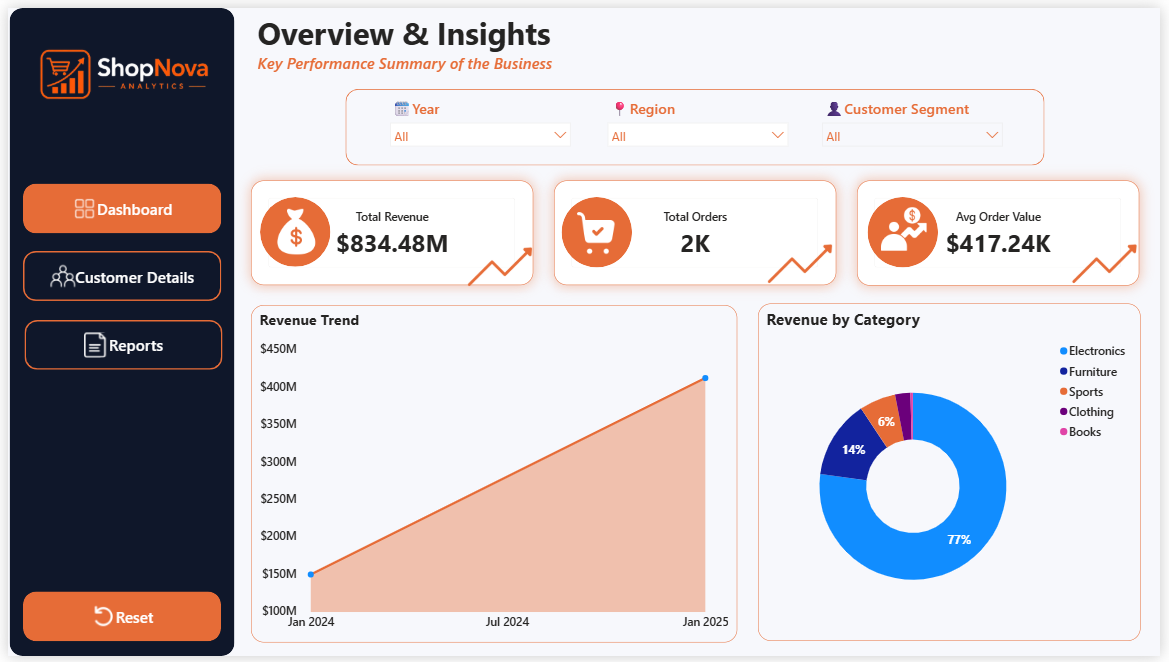

The dashboard page shown, as its layout file describes it:
{"tool":"powerbi","page":{"name":"Dashboard","canvas":[1600,900],"ordinal":0},"visuals":[{"type":"shape","box":[468.8,112.5,970.8,106.2],"z":0},{"type":"shape","box":[349,263.2,98,97],"z":0,"group":"g1"},{"type":"shape","box":[2.6,0,312.5,900],"z":1000},{"type":"image","box":[367.1,272.8,63.4,75.8],"z":1000,"group":"g1"},{"type":"image","box":[14.9,21.3,288,144],"z":3000},{"type":"textbox","box":[341.7,0,477.1,108.3],"z":4000},{"type":"slicer","fields":{"Values":["Dim_Date.Year"]},"box":[520.8,120.8,270.8,97.9],"z":5000},{"type":"slicer","fields":{"Values":["ecommerce_clean.country"]},"box":[822.9,120.8,270.8,97.9],"z":6000},{"type":"slicer","fields":{"Values":["ecommerce_clean.customer_id"]},"box":[1120.8,120.8,270.8,97.9],"z":7000},{"type":"cardVisual","fields":{"Data":["Measure.Total Revenue"]},"box":[337.5,239.7,391.7,145],"z":8000},{"type":"cardVisual","fields":{"Data":["Measure.Total Orders"]},"box":[758.3,239.7,391.7,145],"z":9000},{"type":"cardVisual","fields":{"Data":["Measure.Avg Order Value"]},"box":[1179.2,239.3,391.7,145.8],"z":10000},{"type":"lineChart","title":"Revenue Trend","fields":{"Category":["Dim_Date.Year","Dim_Date.Month"],"Y":["Measure.Total Revenue"]},"box":[337.5,412.5,675,468.8],"z":11000},{"type":"donutChart","title":"Revenue by Category","fields":{"Category":["ecommerce_clean.category"],"Y":["Measure.Total Revenue"]},"box":[1042,410,531.2,468.8],"z":12000},{"type":"actionButton","box":[0,38.8,100,2],"z":13000},{"type":"shape","box":[1193.9,263.3,98,98],"z":14000},{"type":"shape","box":[769.4,263.3,98,98],"z":15000},{"type":"image","box":[743,277,145,69],"z":16000},{"type":"group","id":"g1","title":"Group 1","box":[349,263.2,98,97],"z":17000},{"type":"image","box":[1212.5,245.8,63.3,122.4],"z":18000},{"type":"actionButton","box":[21.8,243.1,275.5,69.4],"z":19000},{"type":"actionButton","box":[21.8,337.2,275.5,69.4],"z":20000},{"type":"actionButton","box":[22.7,433.3,275,69],"z":22000},{"type":"actionButton","box":[21.3,810.6,275,69],"z":23000},{"type":"image","box":[634,250,100,218],"z":24000},{"type":"image","box":[1472.9,245.8,100,218],"z":25000},{"type":"image","box":[1050,245.8,100,218],"z":26000}]}

Visuals, with their boxes in screenshot pixels (x1, y1, x2, y2), scaled from the page's 1600x900 canvas onto the 1169x662 screenshot:
shape: left=343, top=83, right=1052, bottom=161
shape: left=255, top=194, right=327, bottom=265
shape: left=2, top=0, right=230, bottom=661
image: left=268, top=201, right=315, bottom=256
image: left=11, top=16, right=221, bottom=122
textbox: left=250, top=0, right=598, bottom=80
slicer - Dim_Date.Year: left=381, top=89, right=578, bottom=161
slicer - ecommerce_clean.country: left=601, top=89, right=799, bottom=161
slicer - ecommerce_clean.customer_id: left=819, top=89, right=1017, bottom=161
cardVisual - Measure.Total Revenue: left=247, top=176, right=533, bottom=283
cardVisual - Measure.Total Orders: left=554, top=176, right=840, bottom=283
cardVisual - Measure.Avg Order Value: left=862, top=176, right=1148, bottom=283
"Revenue Trend" lineChart: left=247, top=303, right=740, bottom=648
"Revenue by Category" donutChart: left=761, top=302, right=1149, bottom=646
actionButton: left=0, top=29, right=73, bottom=30
shape: left=872, top=194, right=944, bottom=266
shape: left=562, top=194, right=634, bottom=266
image: left=543, top=204, right=649, bottom=255
"Group 1" group: left=255, top=194, right=327, bottom=265
image: left=886, top=181, right=932, bottom=271
actionButton: left=16, top=179, right=217, bottom=230
actionButton: left=16, top=248, right=217, bottom=299
actionButton: left=17, top=319, right=218, bottom=369
actionButton: left=16, top=596, right=216, bottom=647
image: left=463, top=184, right=536, bottom=344
image: left=1076, top=181, right=1149, bottom=341
image: left=767, top=181, right=840, bottom=341
